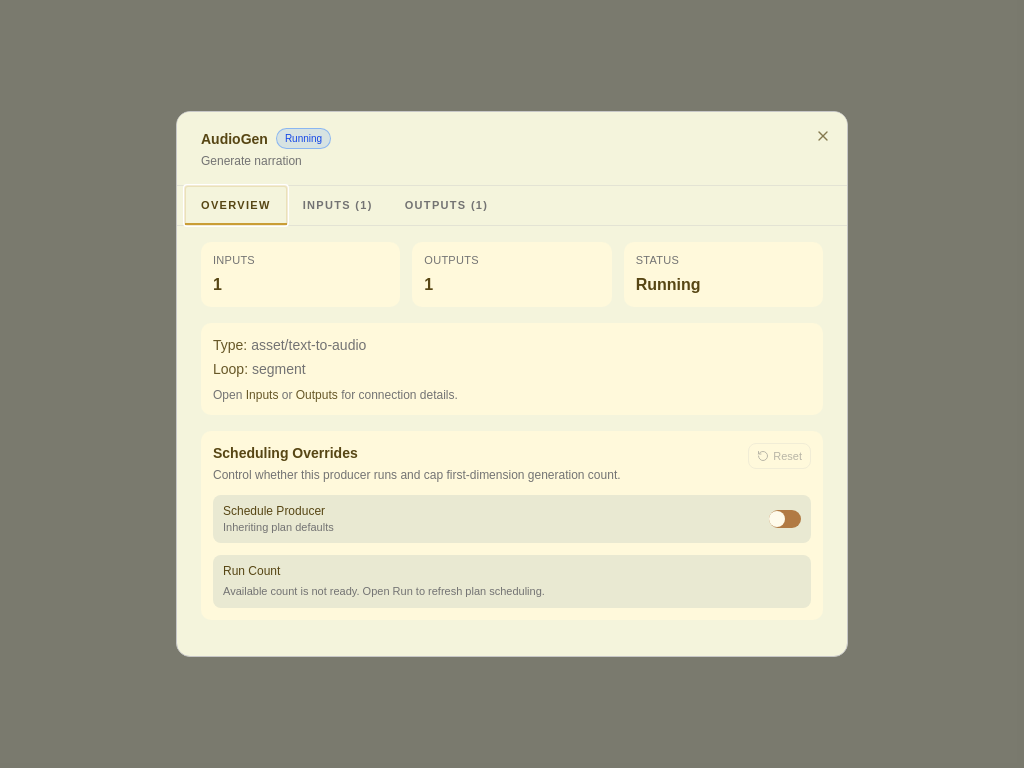
Test: ProducerDetailsDialog › renders producer metadata and detailed bindings
The width and height of the screenshot is (1024, 768).
Expected: the heading "AudioGen" is shown, [201, 128, 268, 148]
Expected: the text "asset/text-to-audio" is shown, [251, 336, 366, 352]
Click the button "Inputs (1)".
click(338, 206)  # box [287, 186, 389, 225]
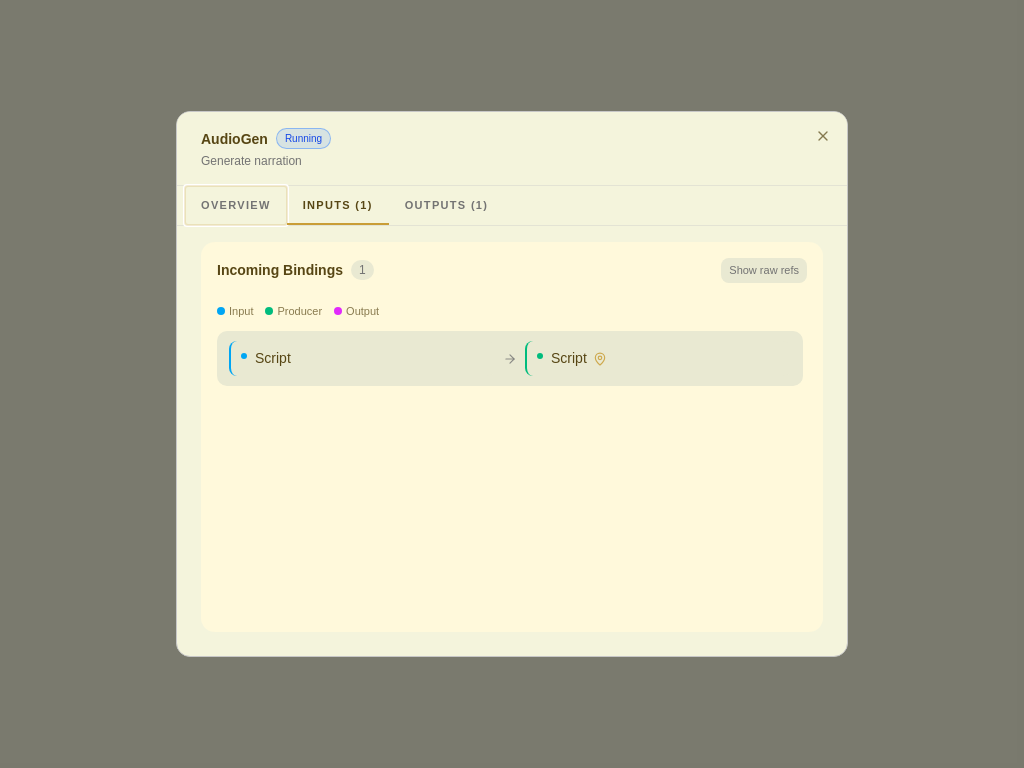
Now the 1st text "Script" is shown, box [255, 349, 291, 368]
Now the icon named "Current producer" is shown, box [593, 352, 607, 366]
Click the button "Outputs (1)".
click(446, 206)  # box [389, 186, 504, 225]
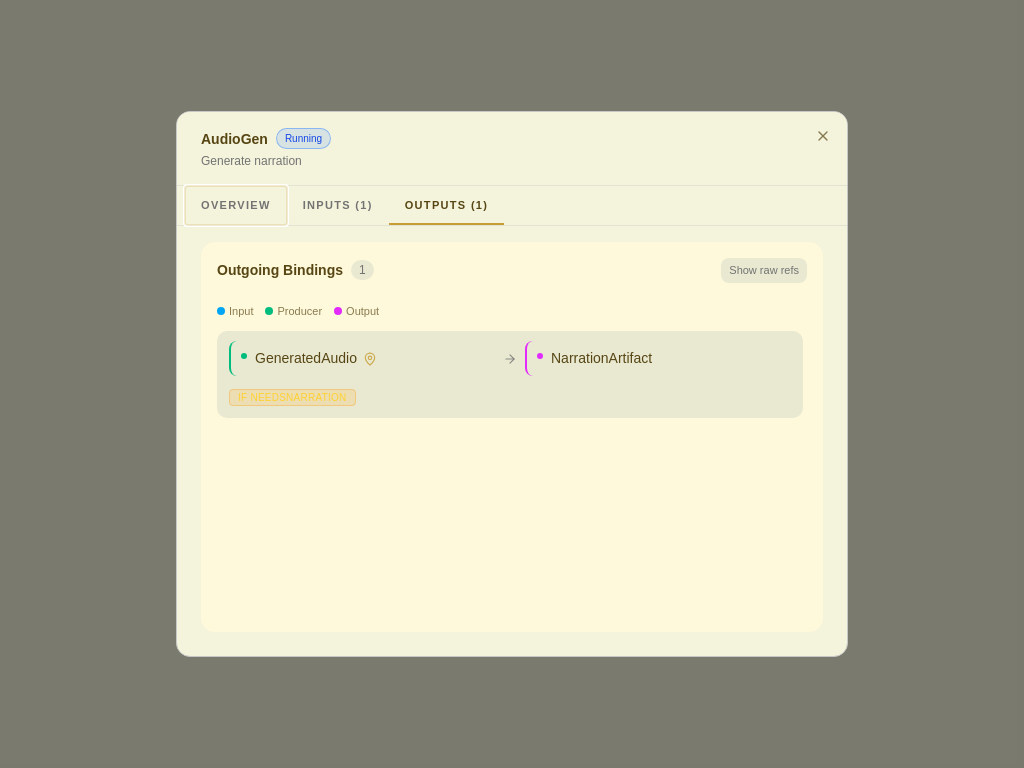
Now the text "GeneratedAudio" is shown, box [255, 349, 357, 368]
Now the text "NarrationArtifact" is shown, box [551, 349, 652, 368]
Now the text "if NeedsNarration" is shown, box [229, 389, 356, 406]
